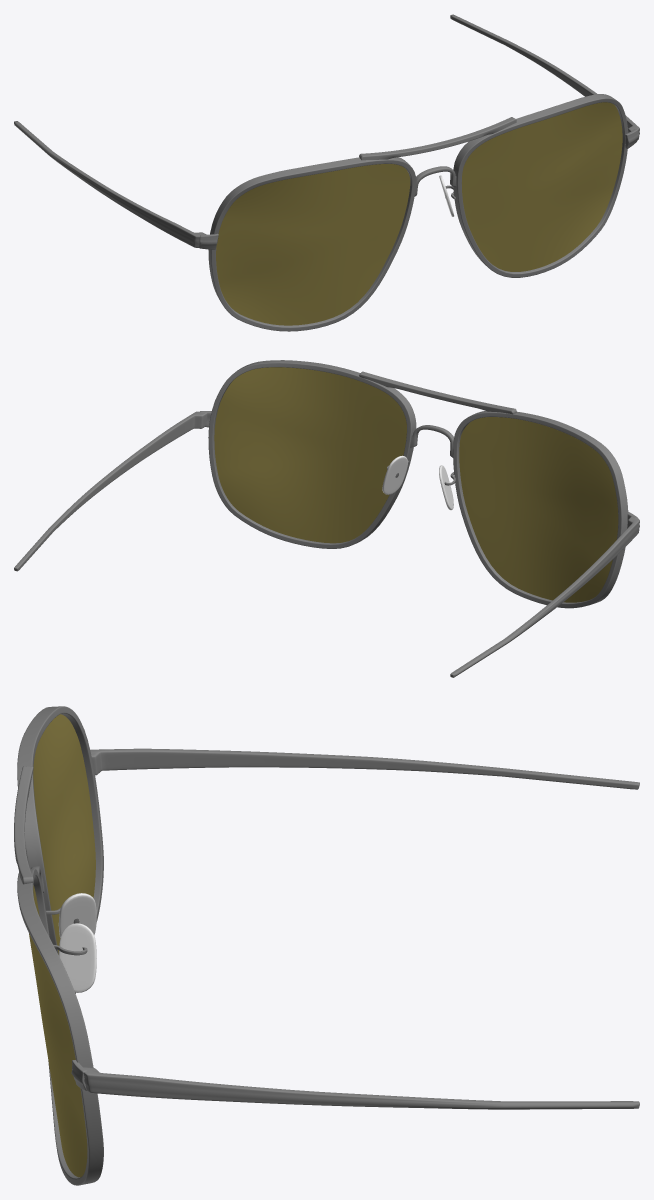
The model's file is chromance_smoth.glb.
3 views of the same model, one above another, from view 1: azimuth 30°, elevation 25°; view 2: azimuth 150°, elevation 25°; view 3: azimuth 270°, elevation 25° (orthographic). The views are drawn at different scales.
Parts seen in each view (by area): view 1: armacao; view 2: armacao; view 3: armacao.
Boxes of the visible parts, <box> form: armacao: <box>14,14,639,331</box>; armacao: <box>14,360,639,677</box>; armacao: <box>14,706,639,1185</box>.
Size of the model in its own units: 0.157 by 0.0556 by 0.1217.
